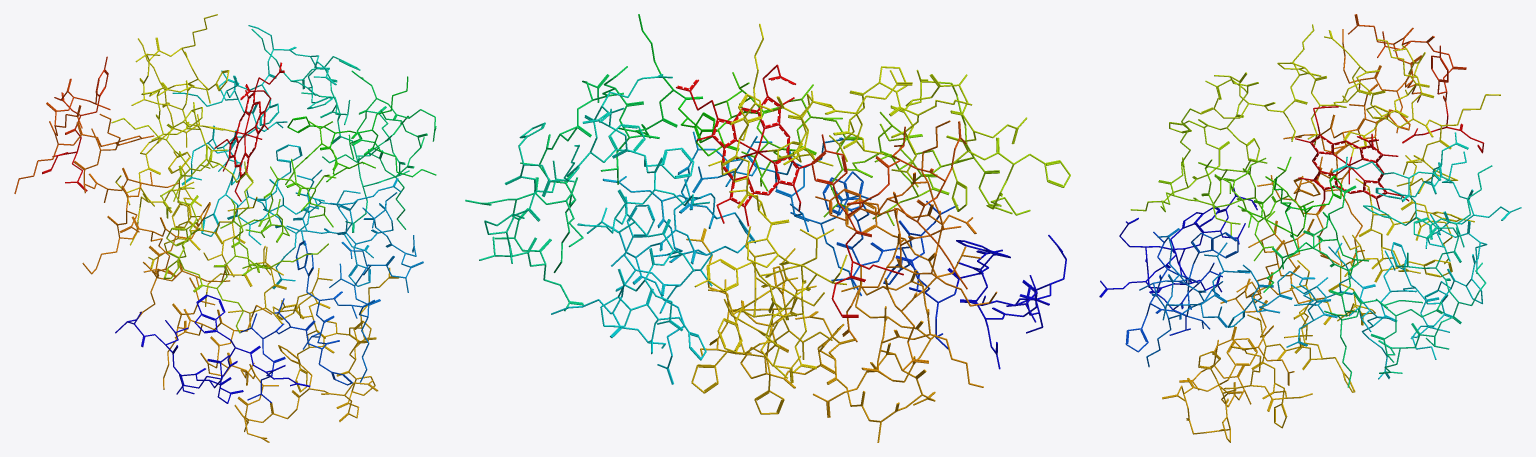
Rendered from 1mbn__lines__rainbow.glb.
3 views of the same model, side by side, from view 1: azimuth 30°, elevation 25°; view 2: azimuth 150°, elevation 25°; view 3: azimuth 270°, elevation 25° (orthographic). The views are drawn at different scales.
Parts seen in each view (by area): view 1: Renderer Node; view 2: Renderer Node; view 3: Renderer Node.
Part boxes in pixels (left/top/right/bottom): Renderer Node: left=14, top=14, right=436, bottom=442; Renderer Node: left=465, top=14, right=1070, bottom=442; Renderer Node: left=1099, top=14, right=1521, bottom=442.
Size of the model in its own units: 42.81 by 38.98 by 39.04.
